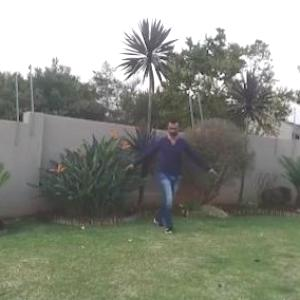land: (114, 106, 216, 235)
